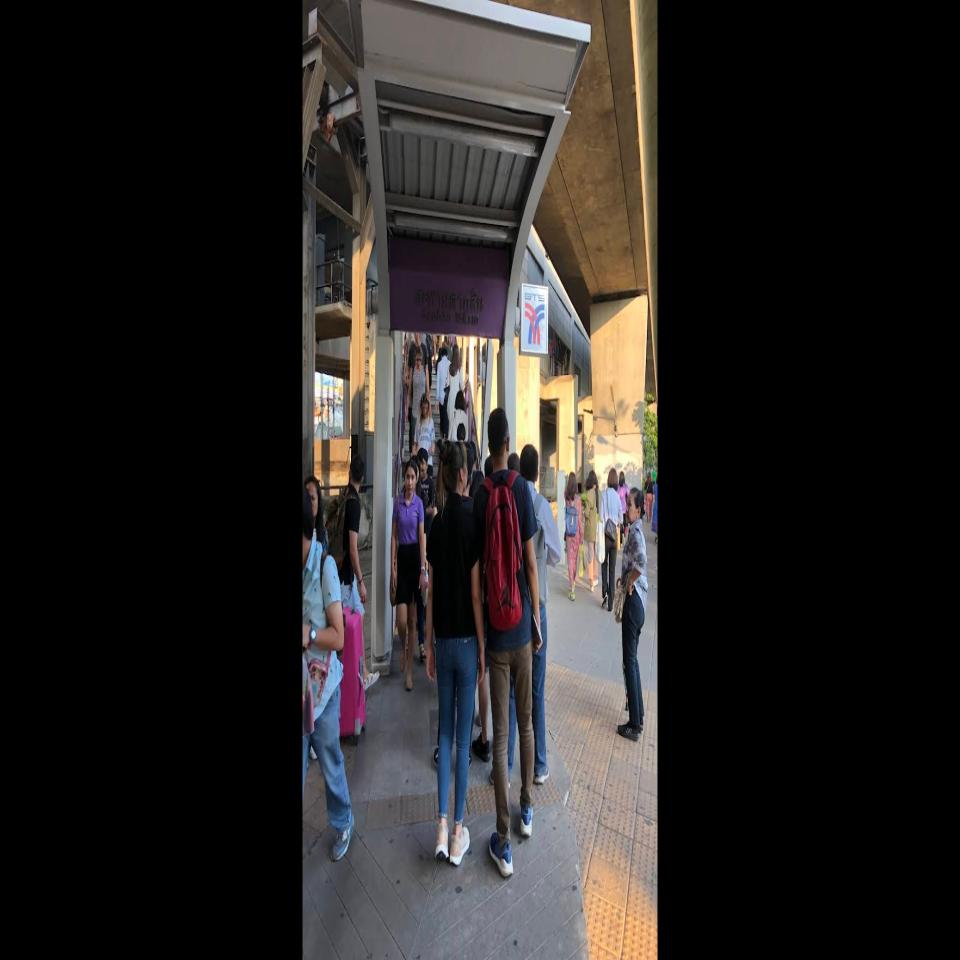Saphan Taksin: (389, 265, 548, 355), (389, 265, 508, 339)
